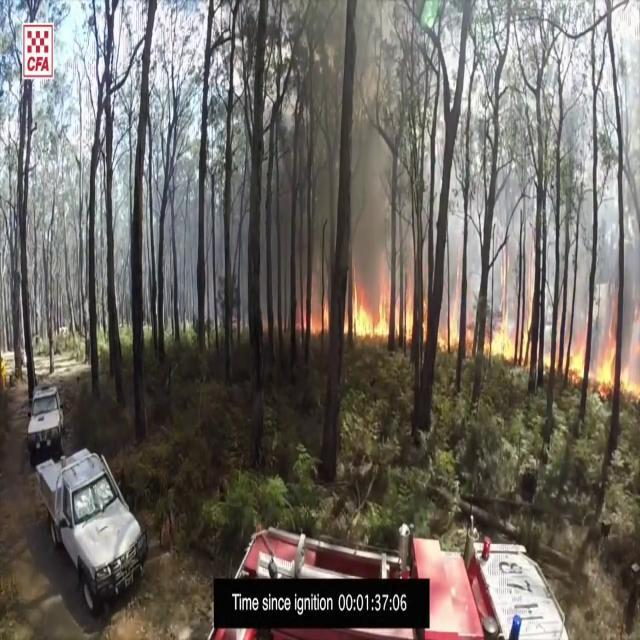Fire: (566, 298, 640, 408)
